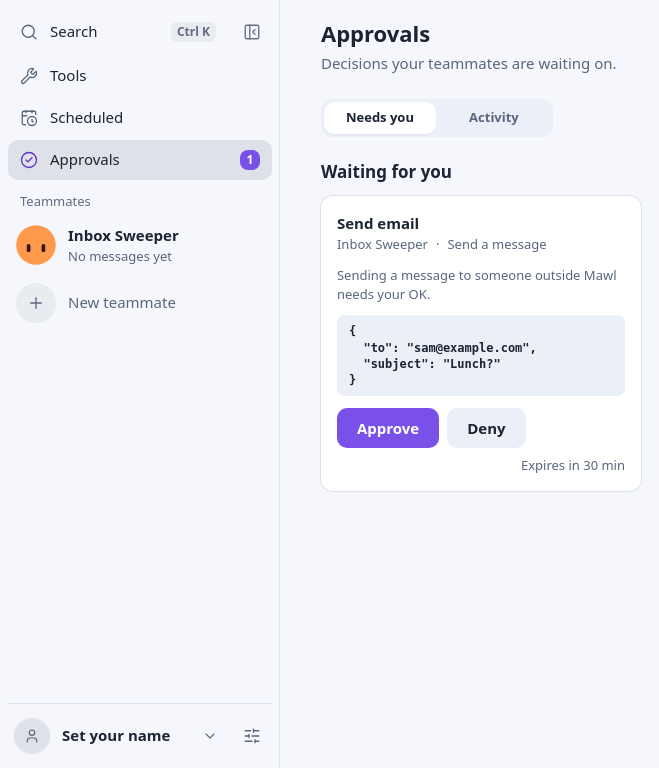
approvals inbox › says so and keeps the buttons when the decision could not be sent
The image size is (659, 768).
What coordinates should you click on to do the following:
click the button "Approve"
I would click on:
 (388, 428)
Its box is [337,408,439,448].
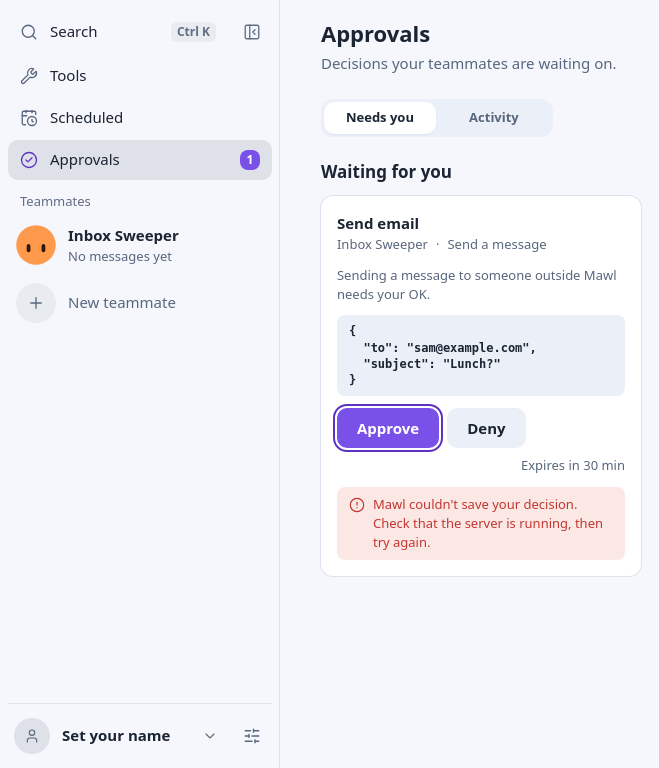
Result: the message shows "couldn't save" at [373,495,603,551]
